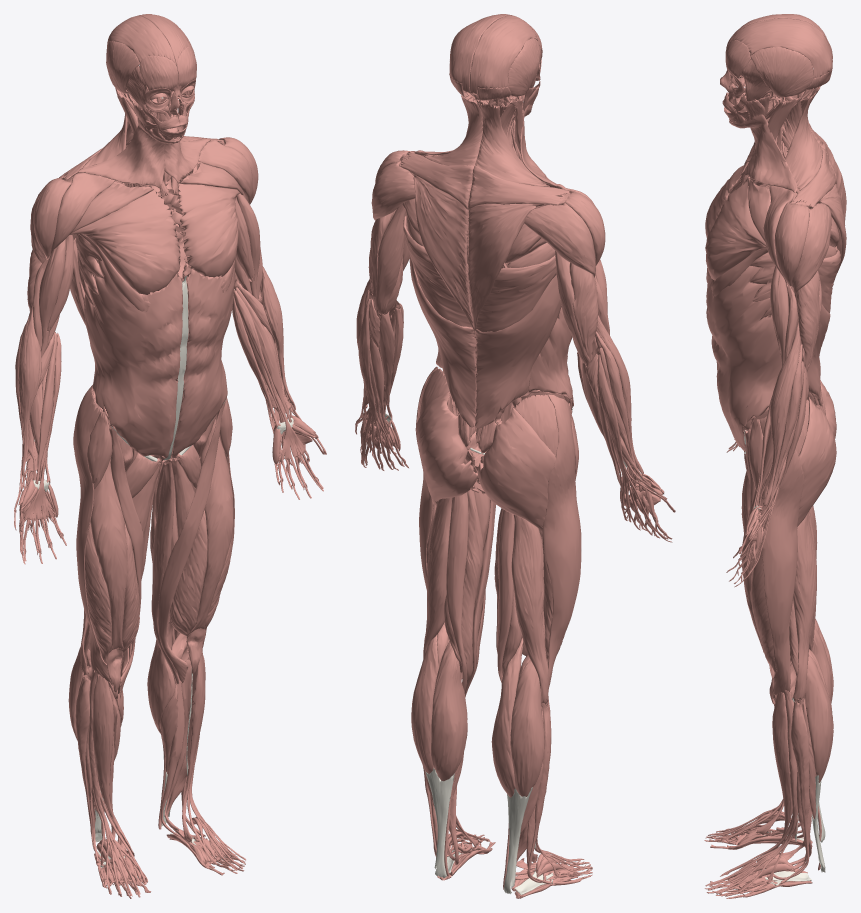
Rendered from muscles.glb.
The picture shows the model from 3 angles, left to right: view 1: azimuth 30°, elevation 25°; view 2: azimuth 150°, elevation 25°; view 3: azimuth 270°, elevation 25°; orthographic projection. The views are drawn at different scales.
Parts seen in each view (by area): view 1: external_oblique|-1|muscle, pectoralis_major|-1|muscle, external_oblique|1|muscle, pectoralis_major|1|muscle, rectus_femoris|-1|muscle, rectus_femoris|1|muscle, deltoid|-1|muscle, sartorius|1|muscle, iliotibial_tract|-1|muscle, platysma|-1|muscle, aponeurosis_of_epicranius|0|muscle, vastus_medialis|1|muscle (+38 smaller); view 2: latissimus_dorsi|-1|muscle, iliotibial_tract|-1|muscle, gastrocnemius|1|muscle, gluteus_maximus|-1|muscle, latissimus_dorsi|1|muscle, gastrocnemius|-1|muscle, ascending_part_of_trapezius|1|muscle, aponeurosis_of_epicranius|0|muscle, biceps_femoris|-1|muscle, ascending_part_of_trapezius|-1|muscle, gluteus_maximus|1|muscle, deltoid|-1|muscle (+29 smaller); view 3: external_oblique|1|muscle, iliotibial_tract|1|muscle, deltoid|1|muscle, pectoralis_major|1|muscle, aponeurosis_of_epicranius|0|muscle, biceps_femoris|1|muscle, gluteus_maximus|1|muscle, gastrocnemius|1|muscle, temporoparietalis|1|muscle, platysma|1|muscle, brachioradialis|1|muscle, descending_part_of_trapezius|1|muscle (+35 smaller).
Boxes of the visible parts, bbox=[...] form: external_oblique|-1|muscle: bbox=[83, 260, 183, 458]; pectoralis_major|-1|muscle: bbox=[69, 183, 180, 311]; external_oblique|1|muscle: bbox=[171, 266, 235, 456]; pectoralis_major|1|muscle: bbox=[178, 162, 243, 292]; rectus_femoris|-1|muscle: bbox=[90, 449, 127, 692]; rectus_femoris|1|muscle: bbox=[186, 419, 233, 673]; deltoid|-1|muscle: bbox=[30, 172, 114, 263]; sartorius|1|muscle: bbox=[158, 400, 225, 683]; iliotibial_tract|-1|muscle: bbox=[73, 385, 110, 681]; platysma|-1|muscle: bbox=[78, 118, 176, 187]; aponeurosis_of_epicranius|0|muscle: bbox=[106, 14, 191, 65]; vastus_medialis|1|muscle: bbox=[169, 510, 207, 659]; latissimus_dorsi|-1|muscle: bbox=[475, 254, 561, 428]; iliotibial_tract|-1|muscle: bbox=[542, 394, 581, 688]; gastrocnemius|1|muscle: bbox=[411, 634, 467, 781]; gluteus_maximus|-1|muscle: bbox=[478, 407, 555, 531]; latissimus_dorsi|1|muscle: bbox=[403, 216, 476, 427]; gastrocnemius|-1|muscle: bbox=[491, 637, 544, 797]; ascending_part_of_trapezius|1|muscle: bbox=[413, 174, 474, 330]; aponeurosis_of_epicranius|0|muscle: bbox=[449, 14, 538, 94]; biceps_femoris|-1|muscle: bbox=[511, 514, 549, 704]; ascending_part_of_trapezius|-1|muscle: bbox=[468, 203, 544, 331]; gluteus_maximus|1|muscle: bbox=[416, 391, 478, 505]; deltoid|-1|muscle: bbox=[524, 176, 605, 277]; external_oblique|1|muscle: bbox=[706, 266, 781, 451]; iliotibial_tract|1|muscle: bbox=[759, 416, 804, 695]; deltoid|1|muscle: bbox=[763, 185, 831, 294]; pectoralis_major|1|muscle: bbox=[705, 178, 770, 297]; aponeurosis_of_epicranius|0|muscle: bbox=[729, 14, 832, 78]; biceps_femoris|1|muscle: bbox=[789, 512, 816, 700]; gluteus_maximus|1|muscle: bbox=[797, 397, 836, 526]; gastrocnemius|1|muscle: bbox=[805, 649, 833, 782]; temporoparietalis|1|muscle: bbox=[750, 46, 813, 97]; platysma|1|muscle: bbox=[729, 114, 797, 192]; brachioradialis|1|muscle: bbox=[763, 321, 800, 507]; descending_part_of_trapezius|1|muscle: bbox=[785, 86, 822, 190].
Bounding box in the file's own units: 0.6391 × 1.65 × 0.2501.
